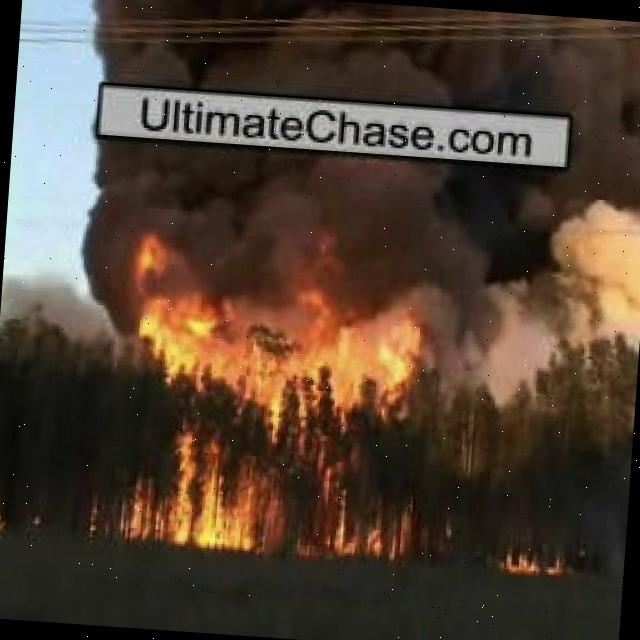fire: (116, 234, 440, 560), (498, 548, 574, 579), (0, 506, 10, 534)
